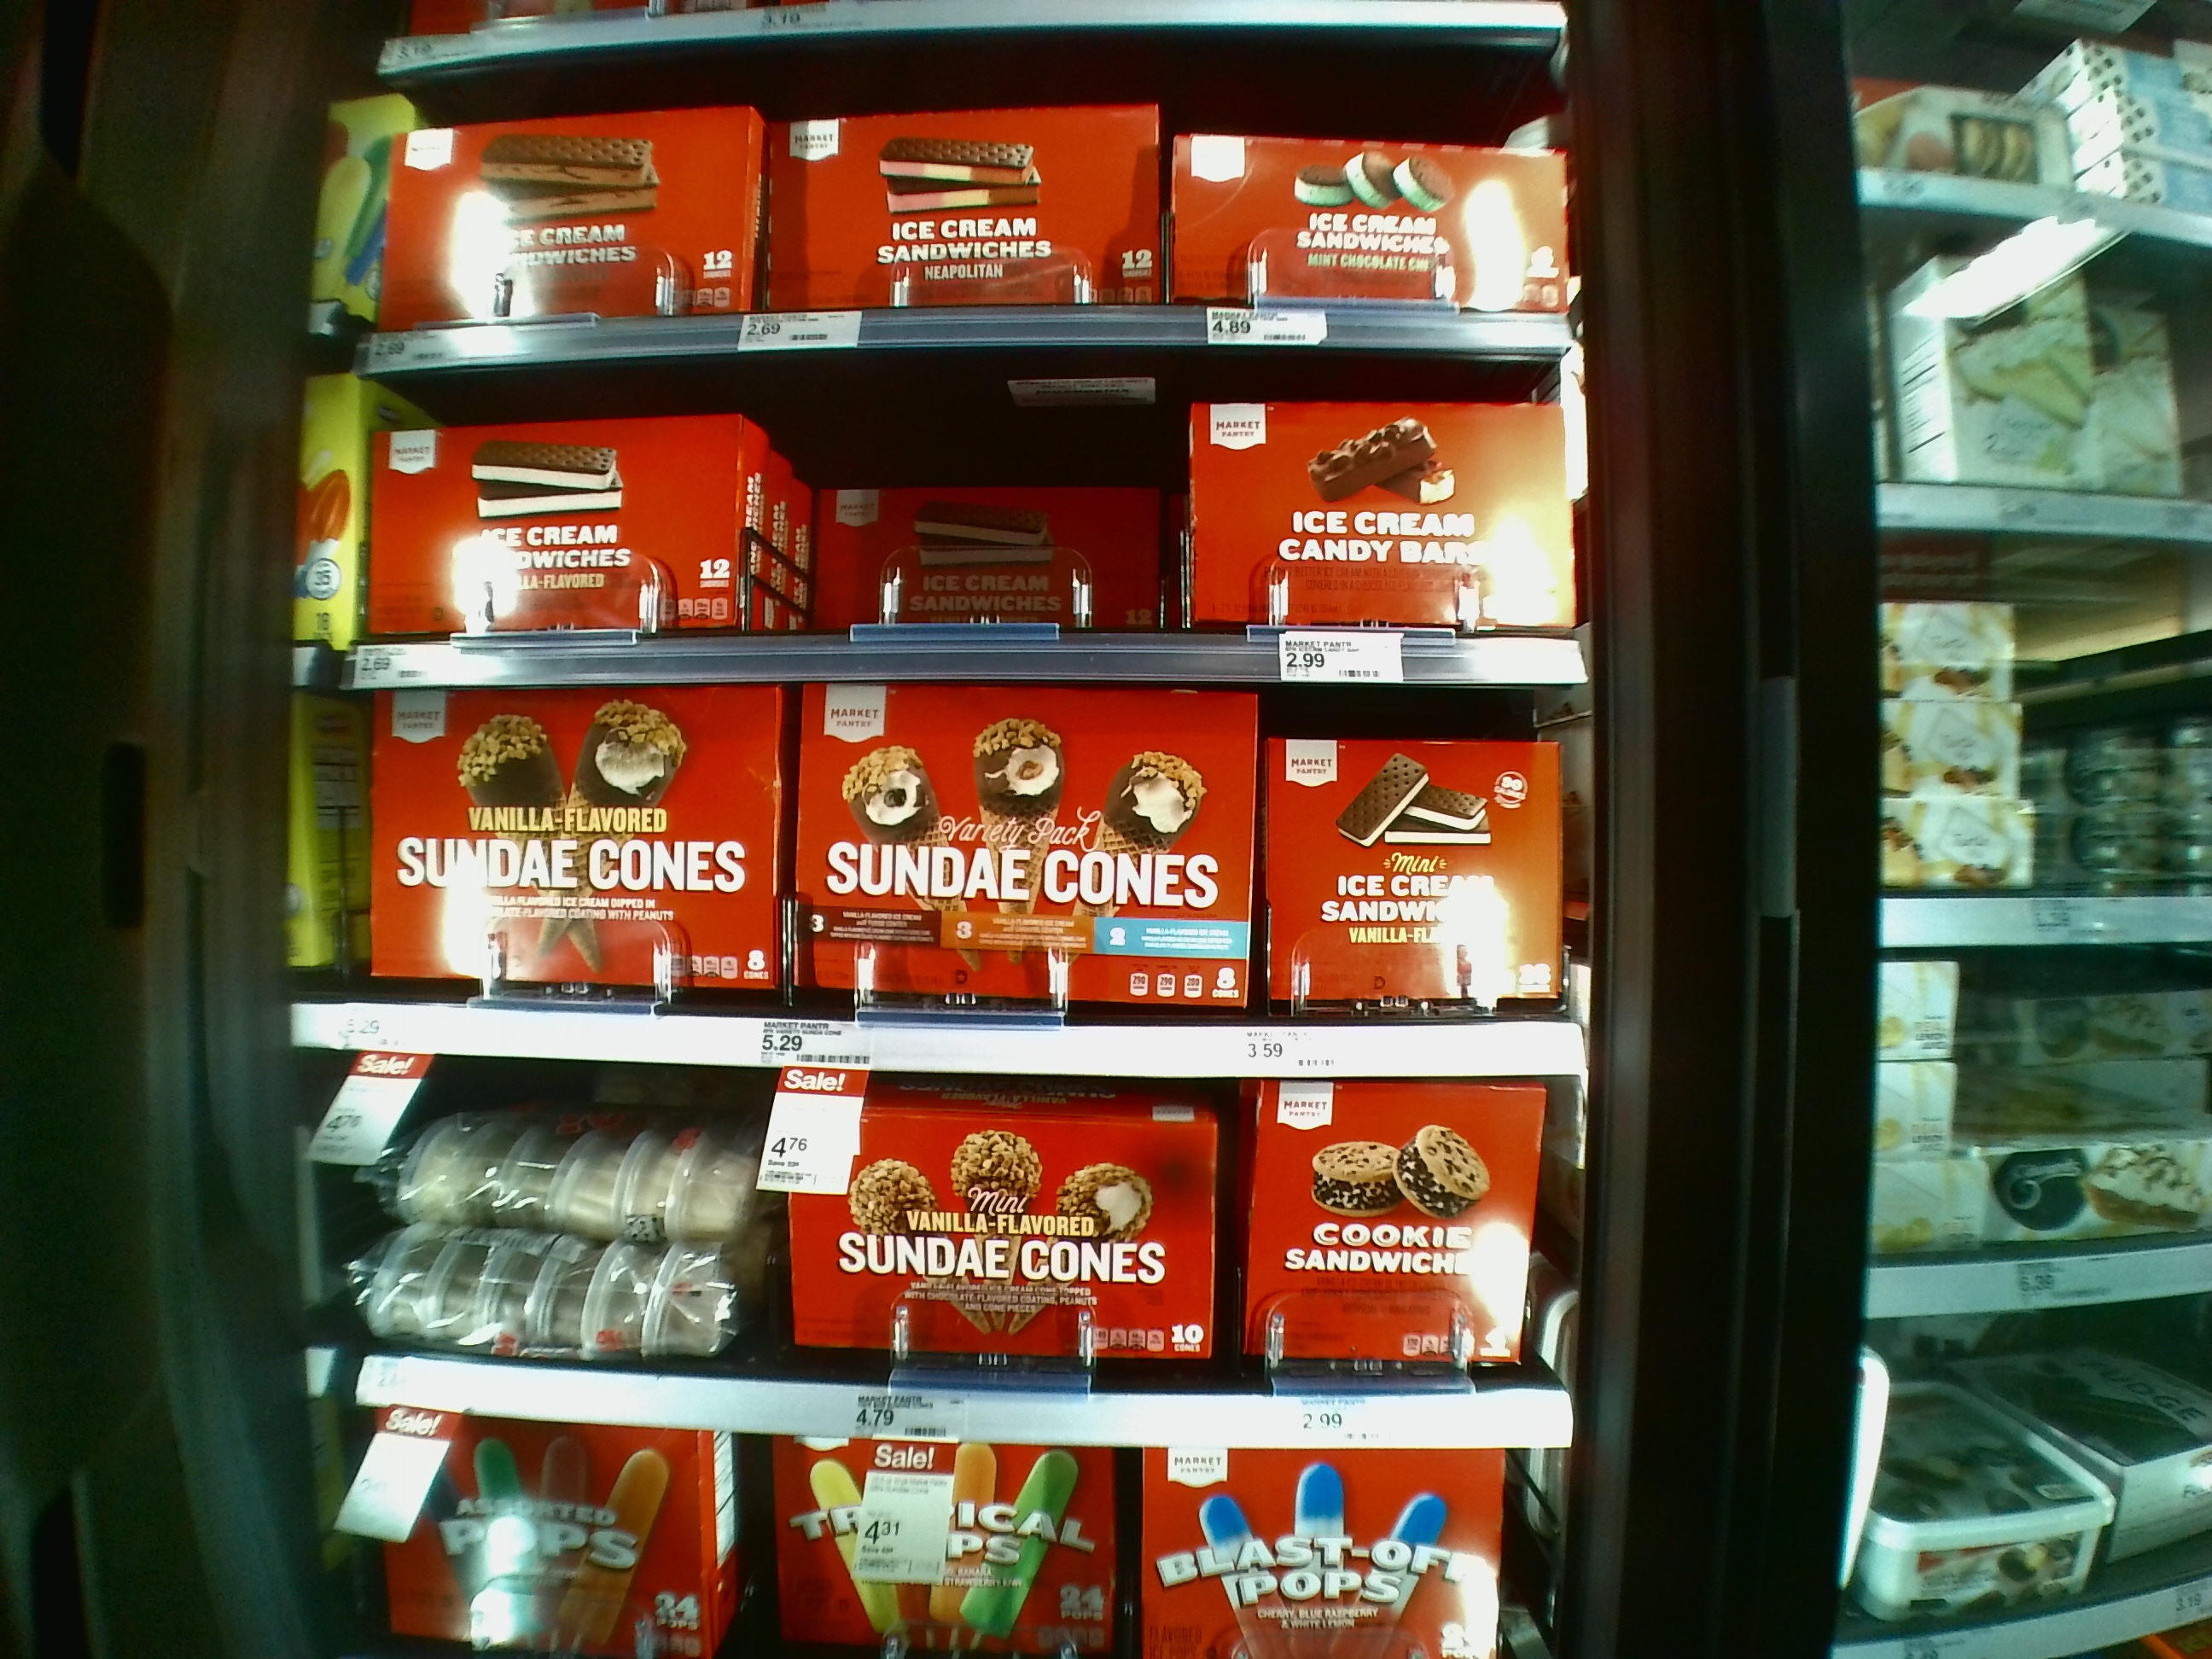shelf: (336, 1061, 1576, 1455), (343, 690, 1568, 1079), (362, 378, 1564, 687), (374, 75, 1569, 371)
